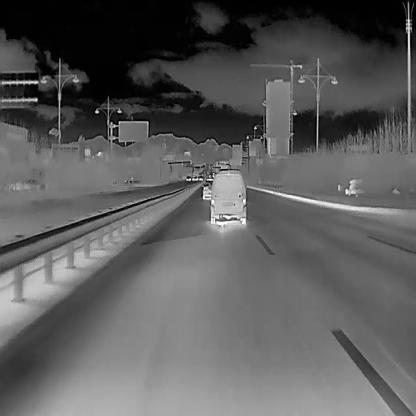car: (208, 169, 245, 224), (201, 181, 211, 200), (191, 173, 197, 180), (184, 174, 190, 180), (198, 176, 202, 180)
